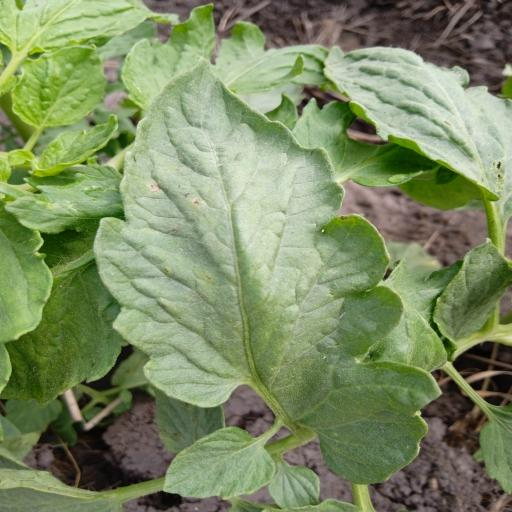Tomato_Mosaic: (76, 50, 447, 490)
